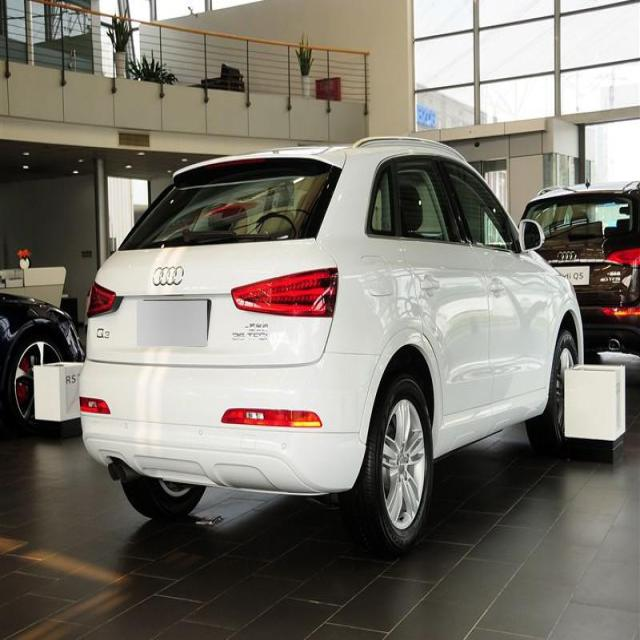back_glass: (116, 157, 341, 251)
back_left_side_light: (86, 280, 123, 320)
back_right_side_light: (228, 264, 342, 316)
door: (376, 164, 496, 432)
front_right_side_door: (443, 153, 557, 407)
front_right_side_mirror: (516, 217, 546, 258)
rear_bumper: (76, 343, 382, 498)
wheel: (358, 378, 432, 553)
